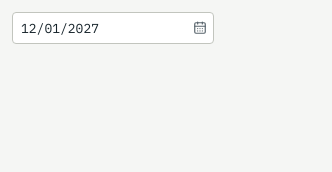
Scenario: DateInput — date en jj/mm/aaaa › affiche en français, accepte la saisie, se vide si facultatif
Later steps or results of the test are not shown.
Clear the dropdown named "Expiration" at (113, 28), box [12,12,214,44]
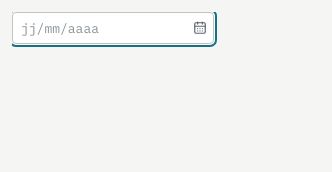
Type "3/9/27" into the dropdown named "Expiration" at (113, 28), box [12,12,214,44]
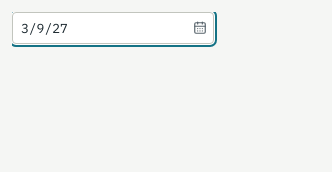
Press Tab
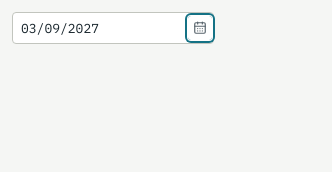
Result: the dropdown named "Expiration" holds "03/09/2027" at [12,12,214,44]
